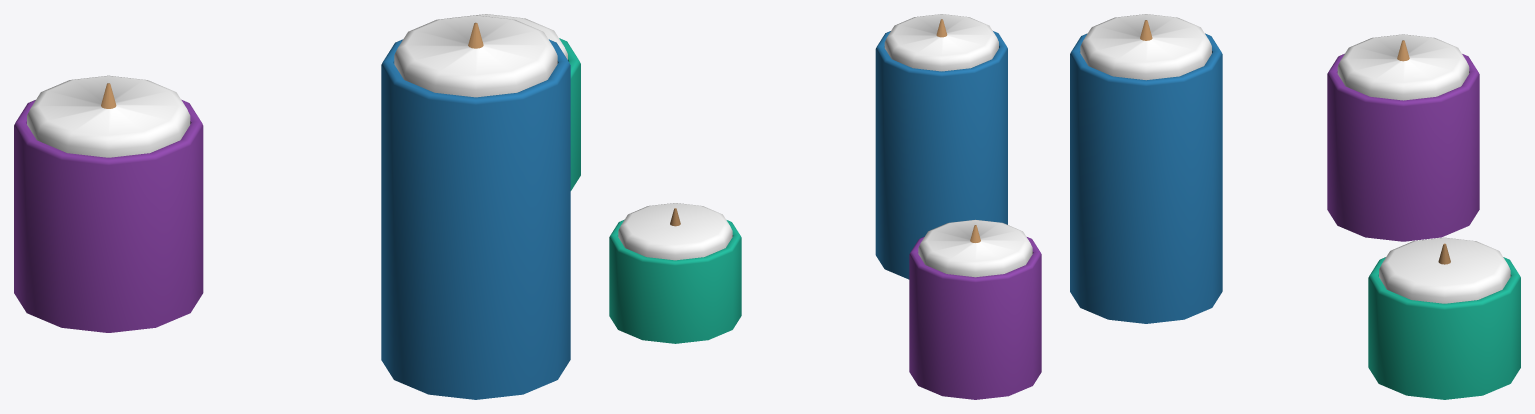
Rendered from Candle.fbx.
3 views of the same model, side by side, from view 1: azimuth 30°, elevation 25°; view 2: azimuth 150°, elevation 25°; view 3: azimuth 270°, elevation 25° (orthographic). The views are drawn at different scales.
Parts seen in each view (by area): view 1: Candle-3, Candle-1, Candle-2; view 2: Candle-3, Candle-1, Candle-2; view 3: Candle-3, Candle-1, Candle-2.
Part boxes in pixels (left/top/right/bottom): Candle-3: left=381, top=15, right=570, bottom=399; Candle-1: left=14, top=75, right=203, bottom=332; Candle-2: left=452, top=14, right=580, bottom=190; Candle-3: left=875, top=14, right=1007, bottom=279; Candle-1: left=909, top=219, right=1041, bottom=399; Candle-2: left=609, top=203, right=741, bottom=343; Candle-3: left=1070, top=14, right=1222, bottom=323; Candle-1: left=1327, top=34, right=1479, bottom=241; Candle-2: left=1368, top=237, right=1520, bottom=399.
Bounding box in the file's own units: 0.66 × 0.3742 × 0.564.
